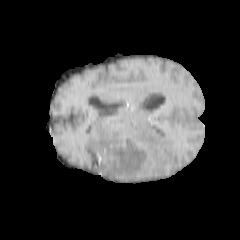glioma: (91, 121, 176, 178)
